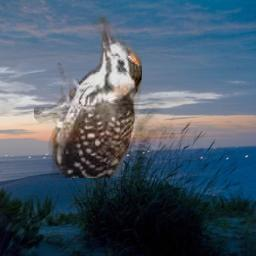Woodpecker: (34, 15, 142, 178)
